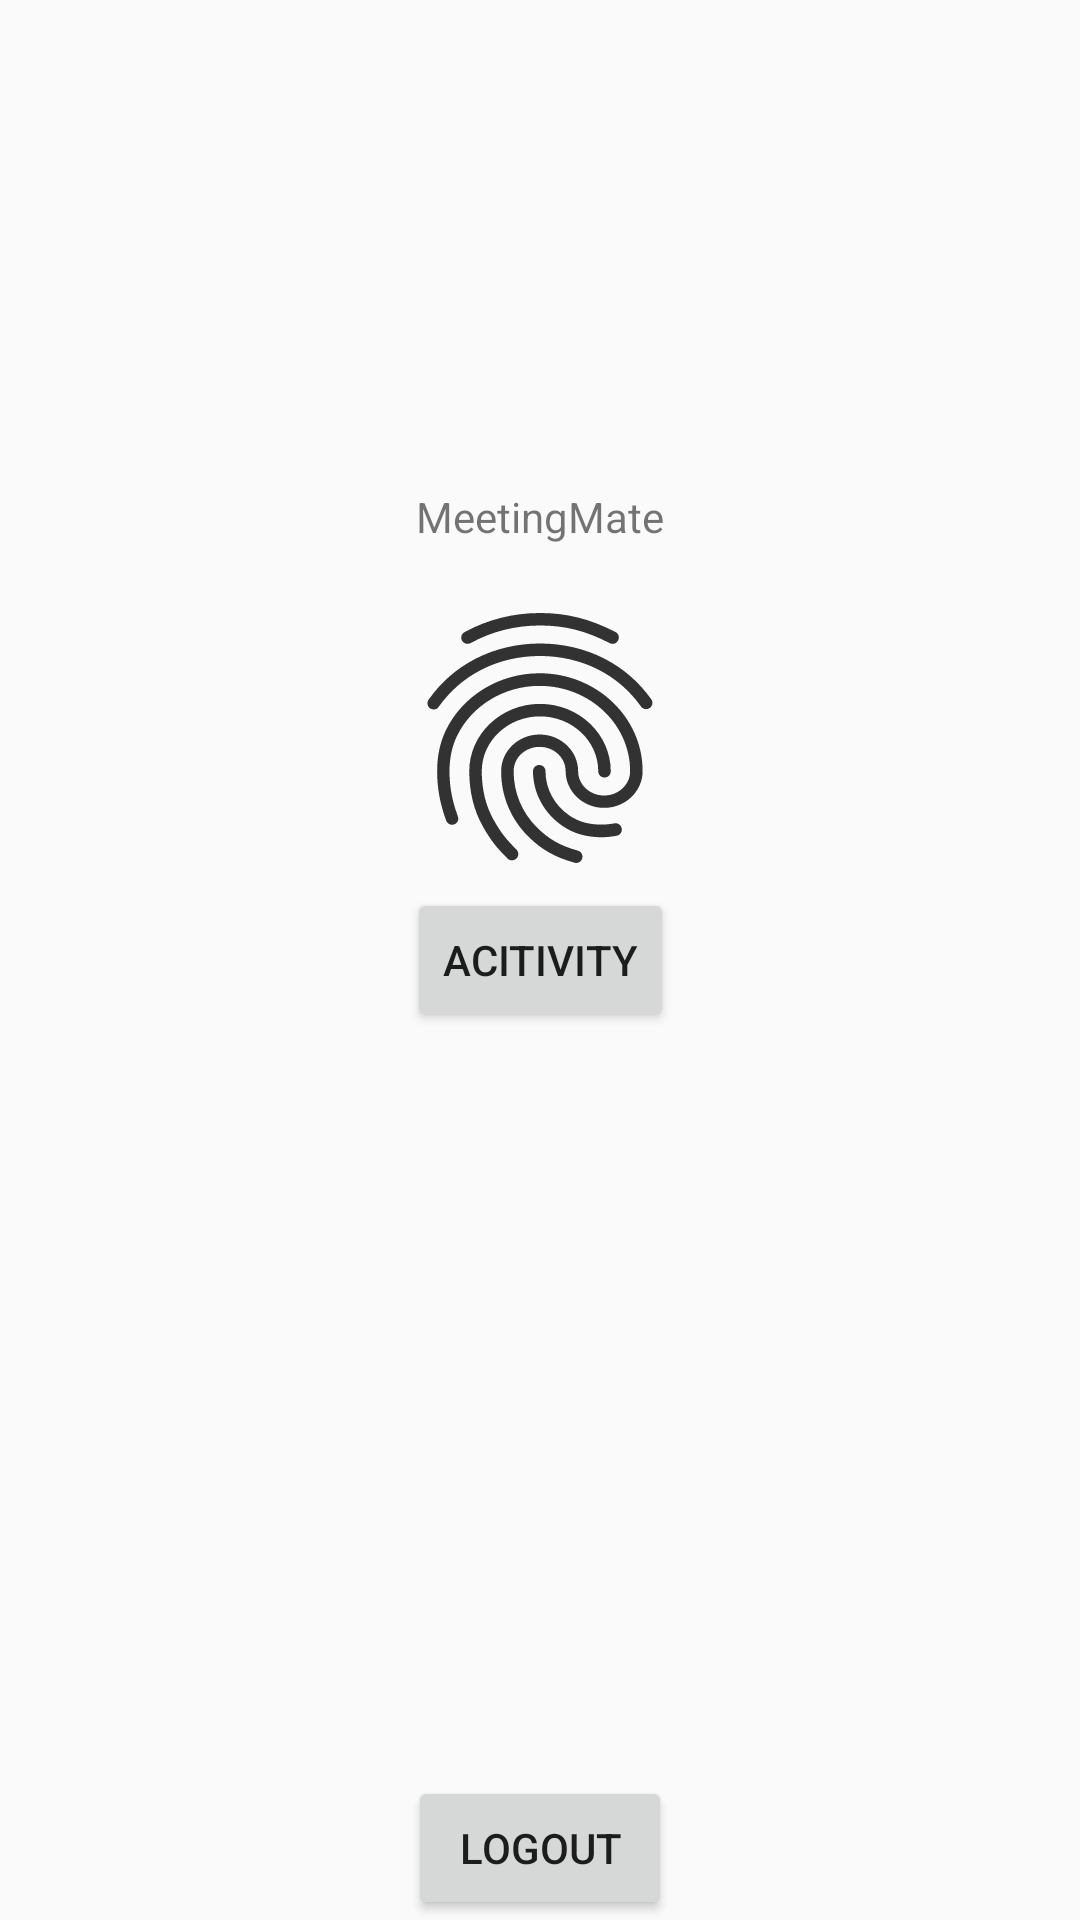

Named icons in this screenshot (1080*1920) and their bounding boxes, (x1, y1, x2, y2):
fingerprint: (427, 613, 653, 863)
